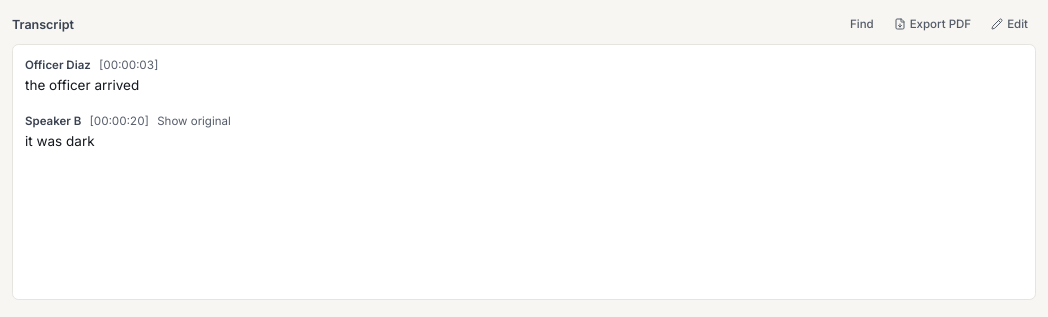
edit mode gating › pencils appear only after toggling Edit
Click the button with aria-label "Edit transcript" at point(1010, 24), box top-left (983, 12), bottom-right (1036, 36)
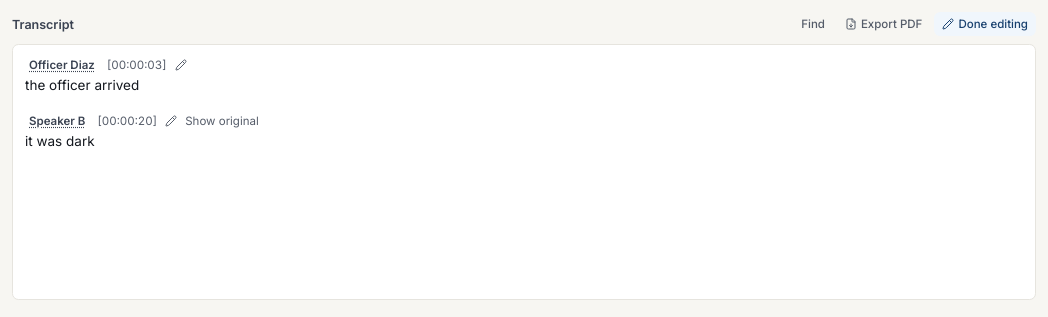
Check: the number of buttons named "Edit paragraph" is 2, box top-left (175, 59), bottom-right (187, 71); top-left (165, 115), bottom-right (177, 127)
